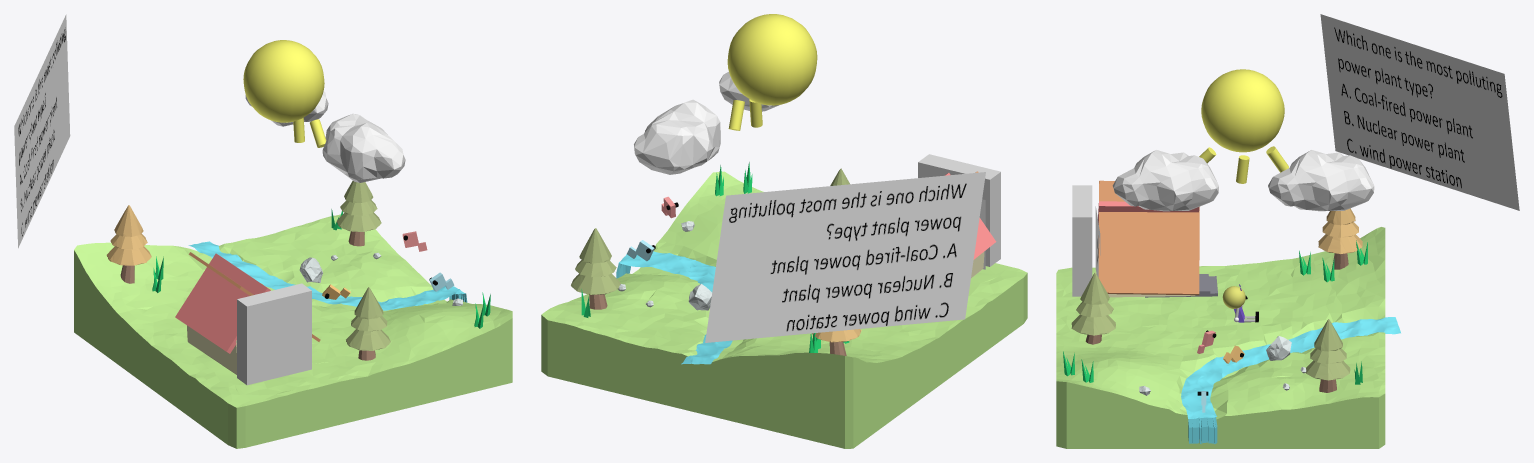
File: sunnyQ4.glb
The picture shows the model from 3 angles, left to right: view 1: azimuth 30°, elevation 25°; view 2: azimuth 150°, elevation 25°; view 3: azimuth 270°, elevation 25°; orthographic projection. The views are drawn at different scales.
Parts seen in each view (by area): view 1: terrain, pPlane2, Cube, pSphere1, house:pCube6, pPlatonic1, water, house:pCube4, pCylinder1, trees:pCylinder8, trees:pCylinder1, pCylinder4 (+1 smaller); view 2: terrain, pPlane2, pSphere1, clouds:pPlatonic1, Cube, water, trees:pCylinder1, trees:pCylinder4, pPlatonic1, trees:pCylinder3, stone:pPlatonic2, house:pCube6; view 3: terrain, pPlane2, house:pCube5, pSphere1, clouds:pPlatonic1, pPlatonic1, water, Cube, pCylinder1, trees:pCylinder8, trees:pCylinder1, trees:pCylinder4 (+4 smaller).
Boxes of the visible parts, <box> form: terrain: <box>74,214,512,448</box>; pPlane2: <box>14,14,70,248</box>; Cube: <box>237,283,311,385</box>; pSphere1: <box>243,40,324,122</box>; house:pCube6: <box>175,253,270,353</box>; pPlatonic1: <box>322,113,405,182</box>; water: <box>188,241,467,310</box>; house:pCube4: <box>187,325,236,374</box>; pCylinder1: <box>346,329,390,350</box>; trees:pCylinder8: <box>106,246,151,265</box>; trees:pCylinder1: <box>336,212,381,231</box>; pCylinder4: <box>354,287,383,319</box>; terrain: <box>541,171,1027,448</box>; pPlane2: <box>705,172,985,342</box>; pSphere1: <box>727,14,817,105</box>; clouds:pPlatonic1: <box>634,99,720,174</box>; Cube: <box>918,154,1000,266</box>; water: <box>616,251,732,364</box>; trees:pCylinder1: <box>571,273,620,294</box>; trees:pCylinder4: <box>579,228,611,263</box>; pPlatonic1: <box>719,71,779,111</box>; trees:pCylinder3: <box>575,260,616,277</box>; stone:pPlatonic2: <box>688,284,711,310</box>; house:pCube6: <box>945,173,996,259</box>; terrain: <box>1056,227,1385,448</box>; pPlane2: <box>1320,14,1519,210</box>; house:pCube5: <box>1098,180,1199,295</box>; pSphere1: <box>1201,69,1284,152</box>; clouds:pPlatonic1: <box>1268,150,1374,211</box>; pPlatonic1: <box>1112,150,1218,211</box>; water: <box>1181,317,1400,444</box>; Cube: <box>1072,185,1092,296</box>; pCylinder1: <box>1071,314,1115,335</box>; trees:pCylinder8: <box>1318,234,1362,254</box>; trees:pCylinder1: <box>1306,360,1350,380</box>; trees:pCylinder4: <box>1314,319,1342,351</box>.
Bounding box in the file's own units: 0.4613 × 0.3533 × 0.4738.
Materials: 27 (2 with a texture image).
